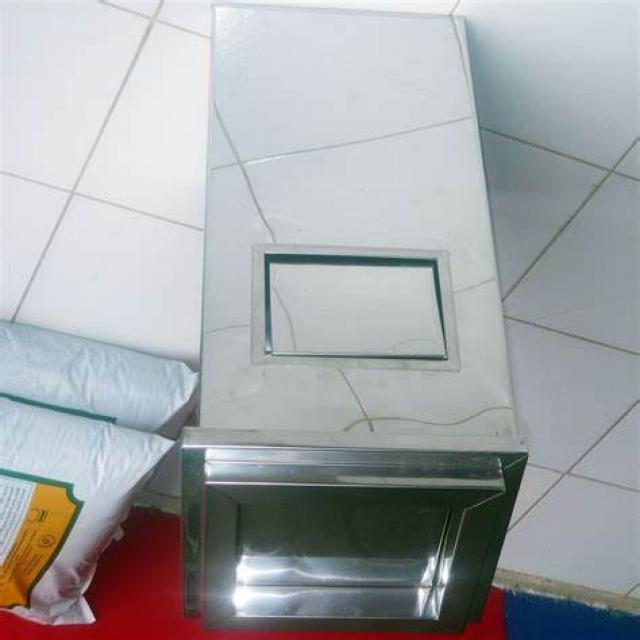garbage container: (163, 5, 522, 640)
